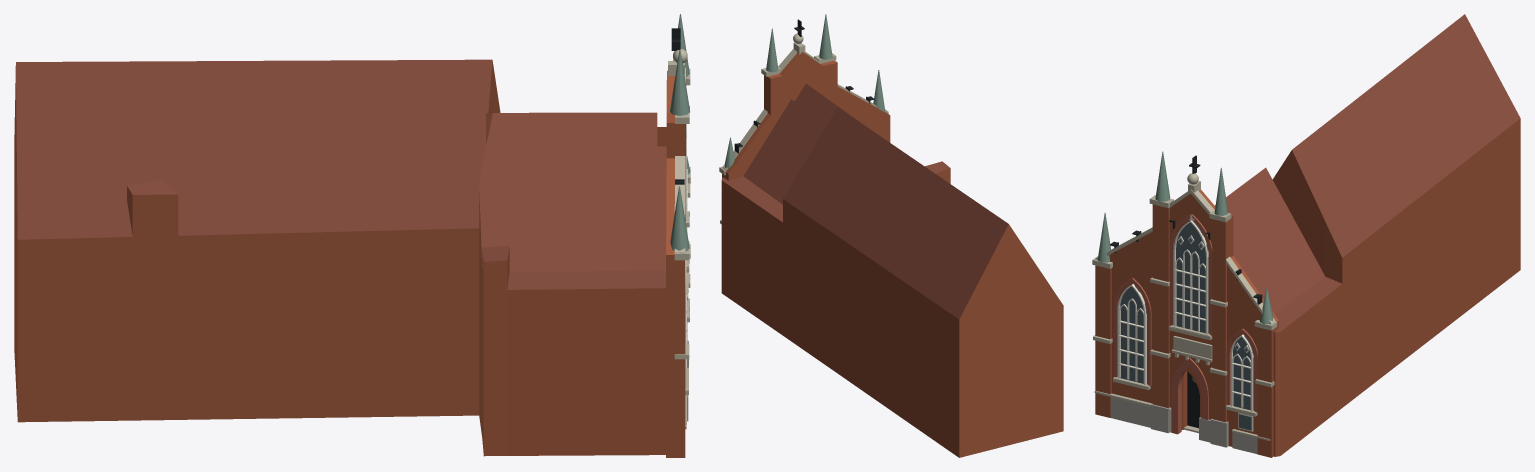
File: christ-church-groenburgwal.glb
The picture shows the model from 3 angles, left to right: view 1: azimuth 30°, elevation 25°; view 2: azimuth 150°, elevation 25°; view 3: azimuth 270°, elevation 25°; orthographic projection. The views are drawn at different scales.
Visible parts, largest first — view 1: christ-church-groenburgwal; view 2: christ-church-groenburgwal; view 3: christ-church-groenburgwal.
Boxes of the visible parts, box(x1,y1,x2,y2) form: christ-church-groenburgwal: box(14, 14, 690, 457); christ-church-groenburgwal: box(719, 14, 1063, 457); christ-church-groenburgwal: box(1092, 14, 1520, 457).
Bounding box in the file's own units: 27.78 × 16.65 × 23.22.
